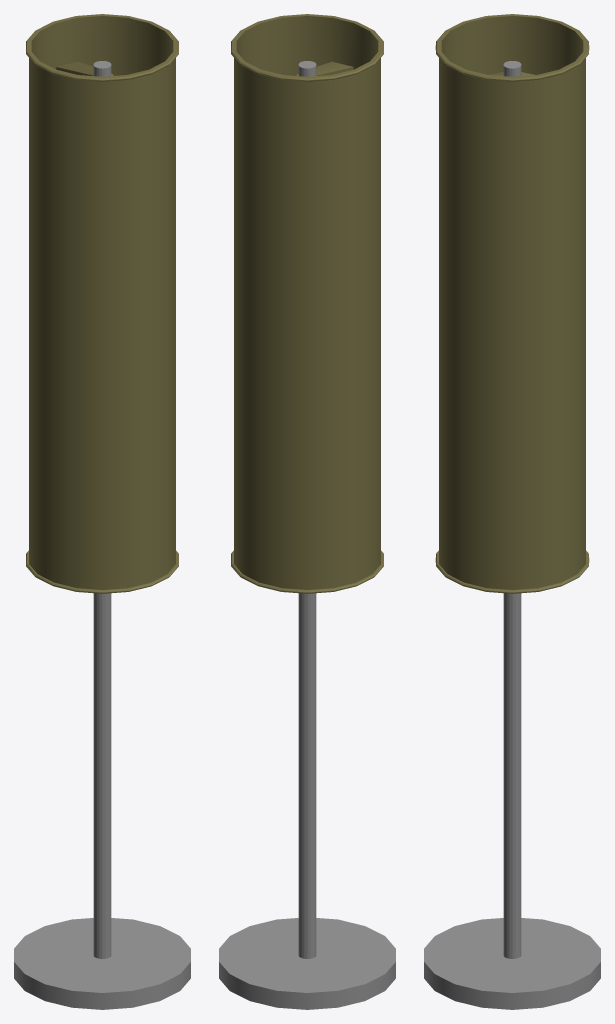
The model's file is lamp 4 - long cylinder.FBX.
The picture shows the model from 3 angles, left to right: view 1: azimuth 30°, elevation 25°; view 2: azimuth 150°, elevation 25°; view 3: azimuth 270°, elevation 25°; orthographic projection.
Parts seen in each view (by area): view 1: Cylinder005; view 2: Cylinder005; view 3: Cylinder005.
Boxes of the visible parts, <box> form: Cylinder005: <box>14,14,190,1009</box>; Cylinder005: <box>219,14,395,1009</box>; Cylinder005: <box>424,14,600,1009</box>.
Bounding box in the file's own units: 20 × 114 × 19.7.
